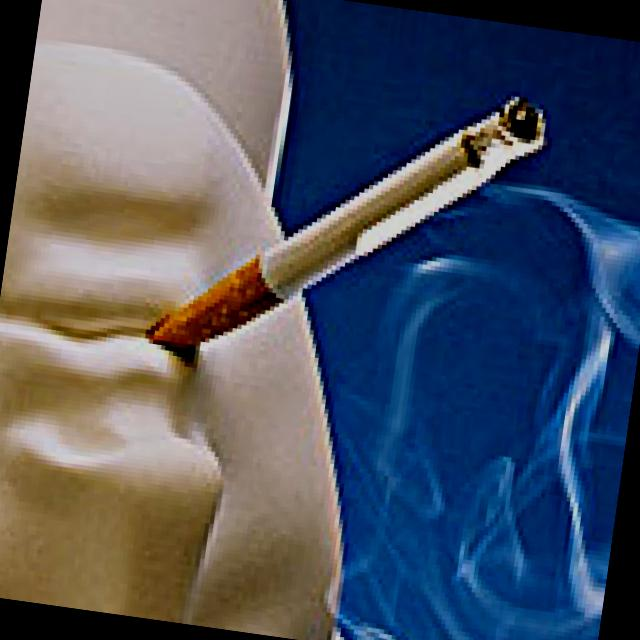smoke: (190, 52, 553, 394)
